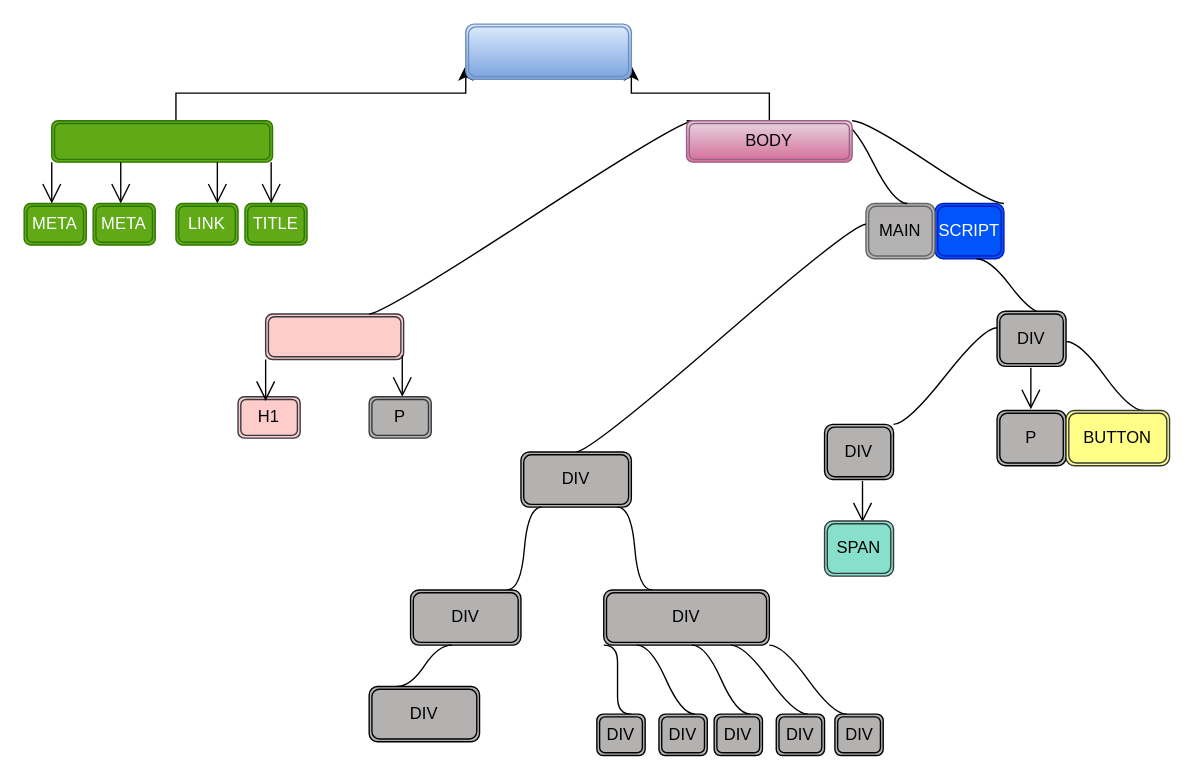
This 1194x780 diagram has some shape labels left out. Each missing label, with the centre of its shape:
"HEAD" belongs at (x=161, y=140).
"HEADER" belongs at (x=334, y=336).
"HTML" belongs at (x=547, y=51).
